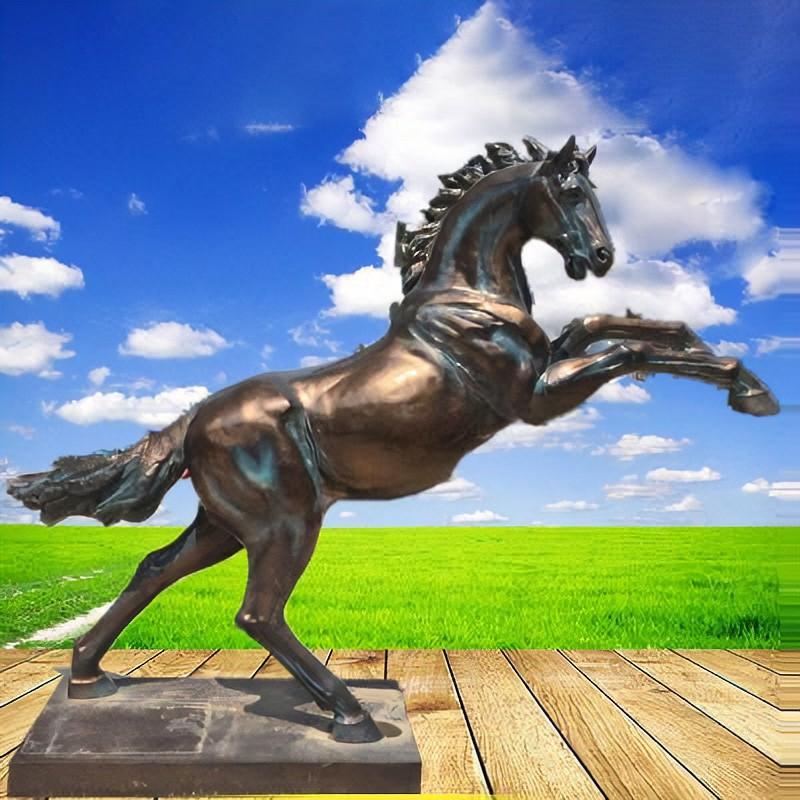background: (253, 239, 639, 511)
